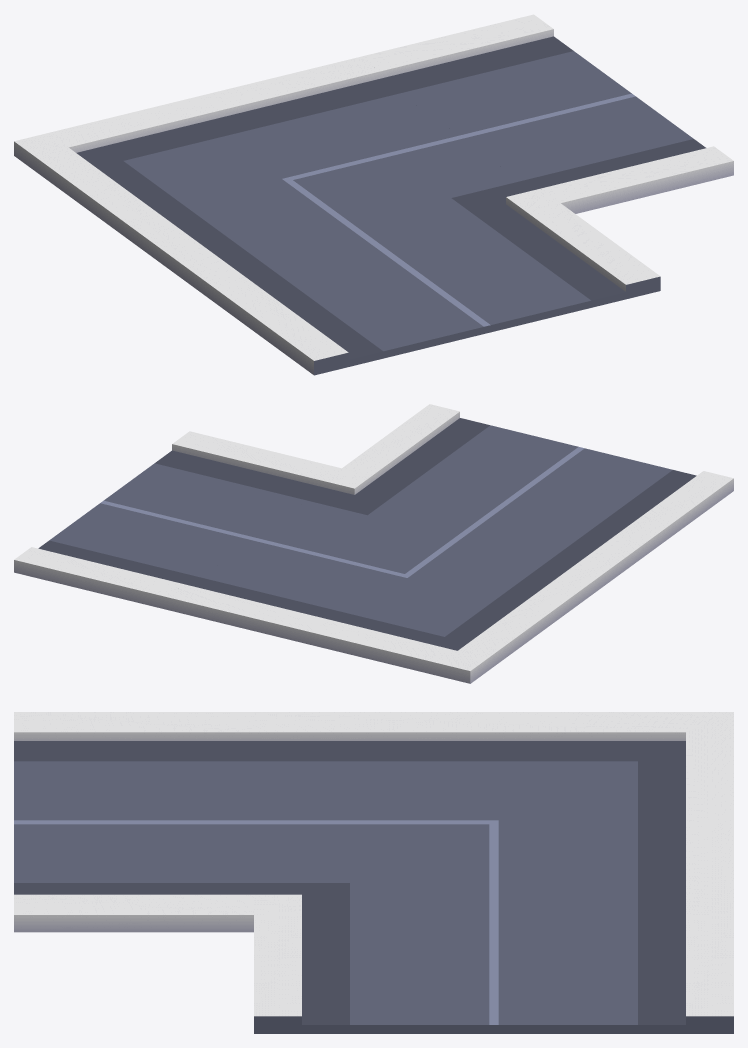
Rendered from road-bend.glb.
3 views of the same model, one above another, from view 1: azimuth 30°, elevation 25°; view 2: azimuth 150°, elevation 25°; view 3: azimuth 270°, elevation 25° (orthographic). The views are drawn at different scales.
Parts seen in each view (by area): view 1: road-bend-square, road-straight-half.002, road-straight-half; view 2: road-bend-square, road-straight-half, road-straight-half.002; view 3: road-bend-square, road-straight-half, road-straight-half.002.
Boxes of the visible parts, bbox=[...] form: road-bend-square: bbox=[14, 57, 560, 301]; road-straight-half.002: bbox=[214, 203, 660, 375]; road-straight-half: bbox=[361, 14, 733, 213]; road-bend-square: bbox=[166, 468, 645, 683]; road-straight-half: bbox=[14, 431, 341, 609]; road-straight-half.002: bbox=[342, 404, 733, 554]; road-bend-square: bbox=[254, 712, 733, 923]; road-straight-half: bbox=[254, 915, 733, 1033]; road-straight-half.002: bbox=[14, 712, 253, 932].
Bounding box in the file's own units: 0.75 × 0.02 × 0.75.
Materials: 2 (2 with a texture image).
